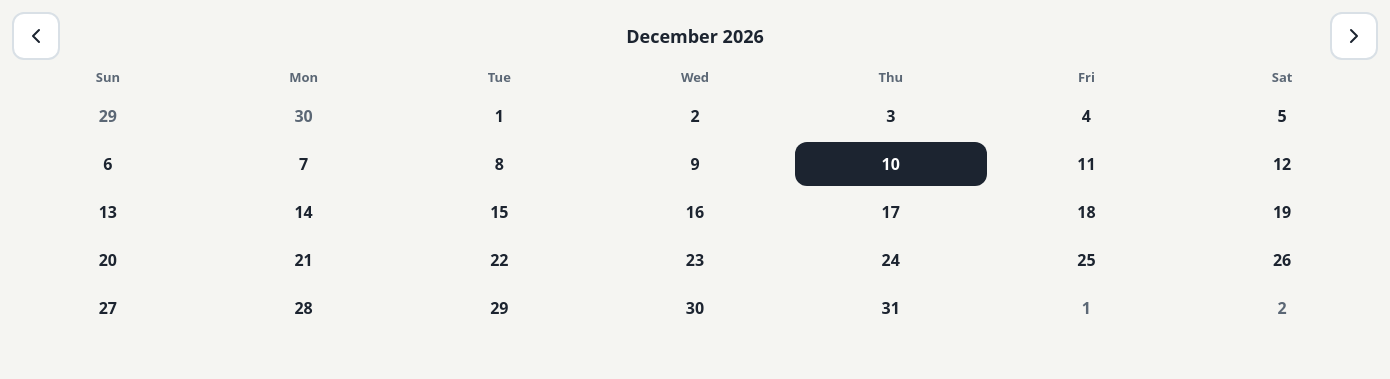
Test case: a month to pick a day from › pages by month, across a year's end
Click the button named "Next month".
click(1354, 36)  # box x1=1330 y1=12 x2=1378 y2=60
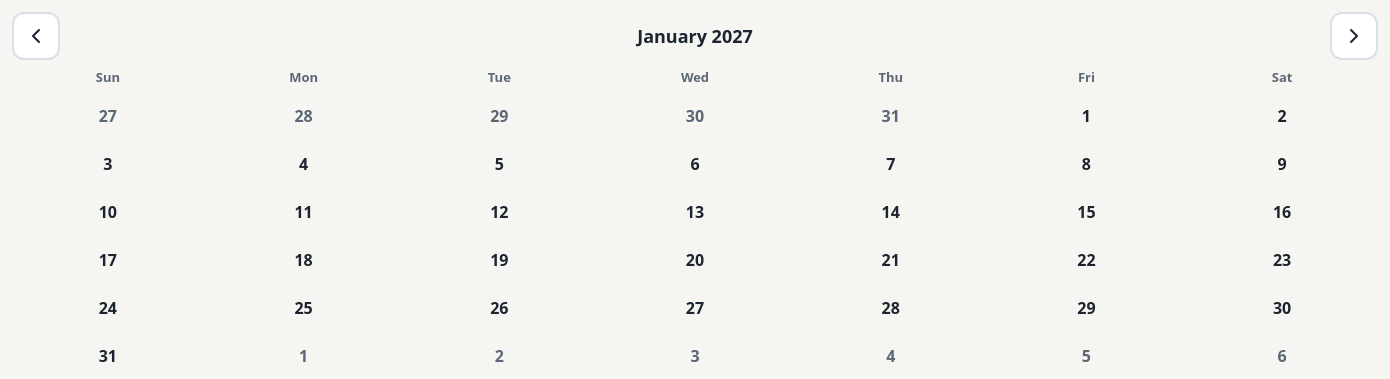
Expected: the text "January 2027" is shown, x1=637 y1=24 x2=753 y2=48
Expected: the button named "January 15" is shown, x1=991 y1=190 x2=1182 y2=234
Click the button named "Previous month".
click(36, 36)  # box x1=12 y1=12 x2=60 y2=60
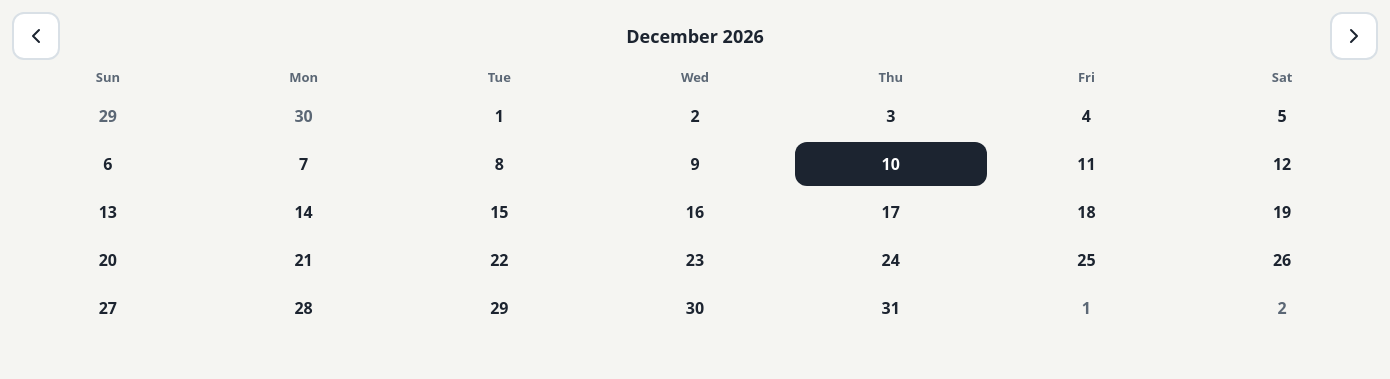
Click the button named "Previous month".
click(36, 36)  # box x1=12 y1=12 x2=60 y2=60
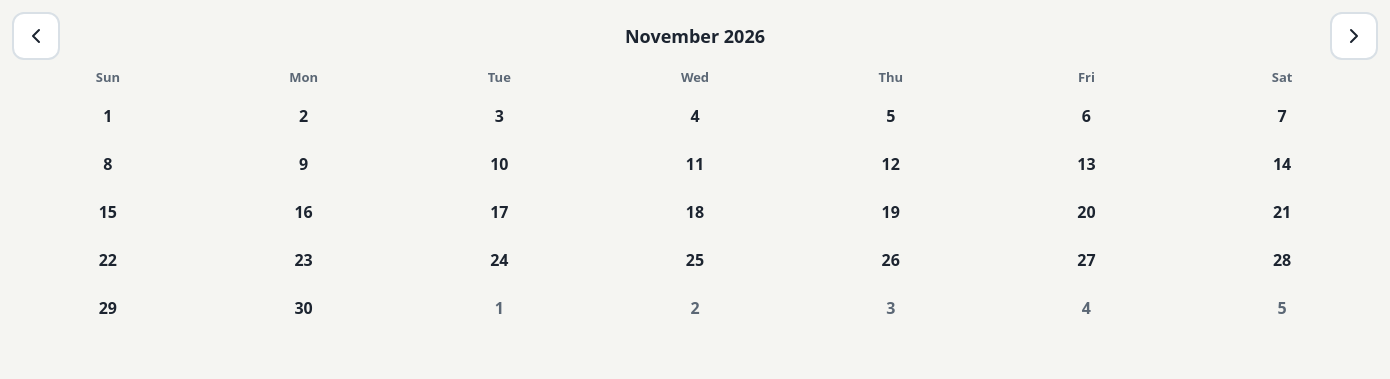
Expected: the text "November 2026" is shown, x1=625 y1=24 x2=765 y2=48
